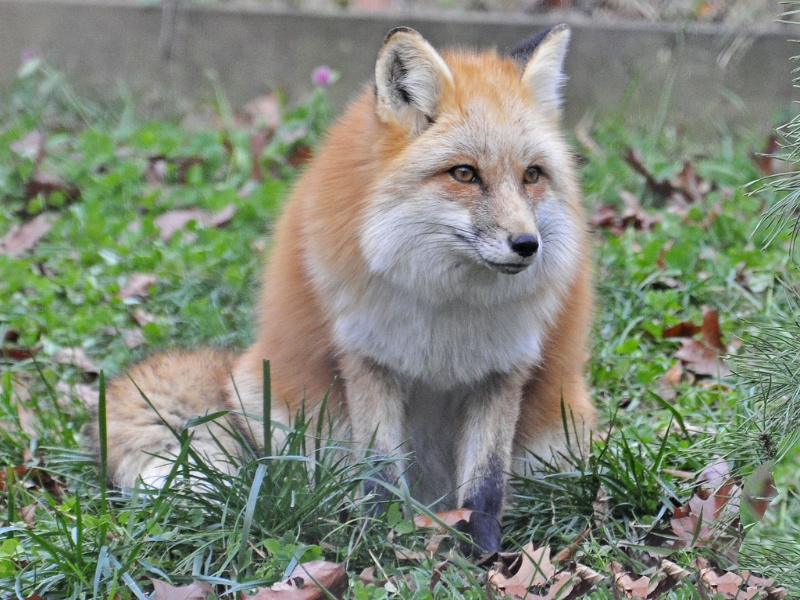fox: (95, 19, 605, 555)
